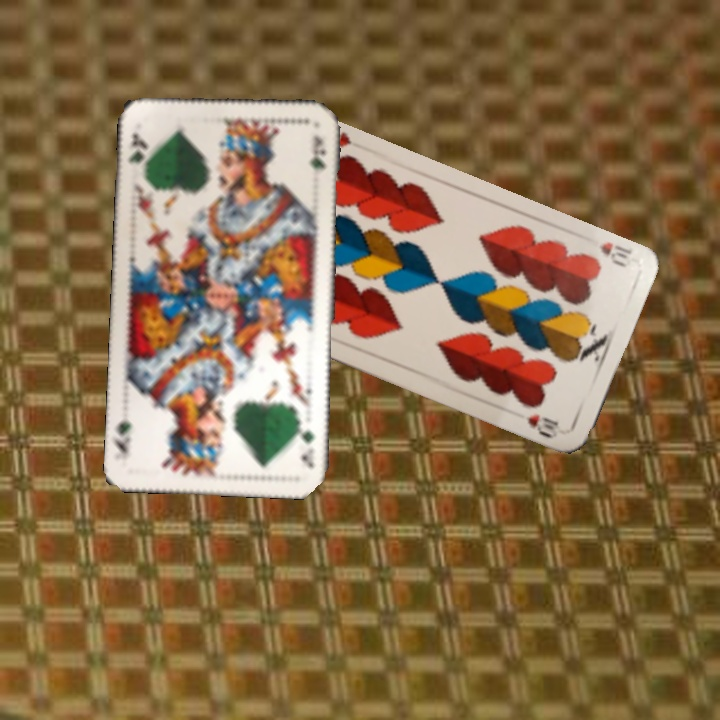GK: (123, 130, 151, 166), (298, 425, 317, 471)
H10: (595, 238, 635, 270)
